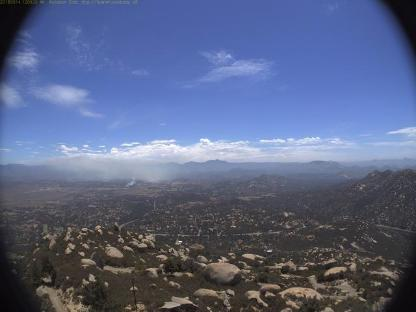smoke: (59, 154, 177, 186)
